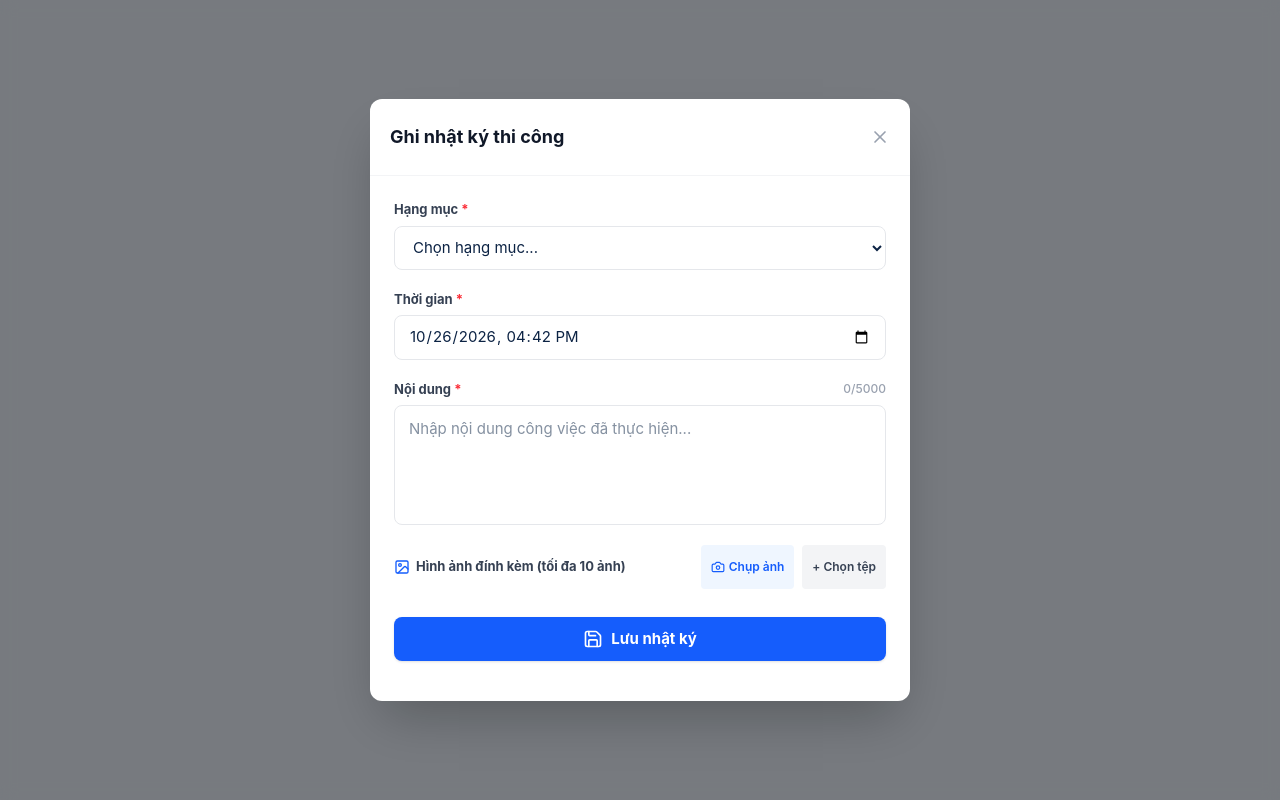
Test: DiaryEntryForm Component - work_item_id contract tests › chặn gửi request khi ID hạng mục không hợp lệ
This screenshot has width=1280, height=800.
Ép giá trị không hợp lệ
Select "invalid-category-xyz" in the dropdown with test id "category-dropdown" at (640, 248), box [394,226,886,270]
Type "Nội dung hợp lệ" into the text box with placeholder "Nhập nội dung công việc đã thực hiện..." at (640, 465), box [394,405,886,525]
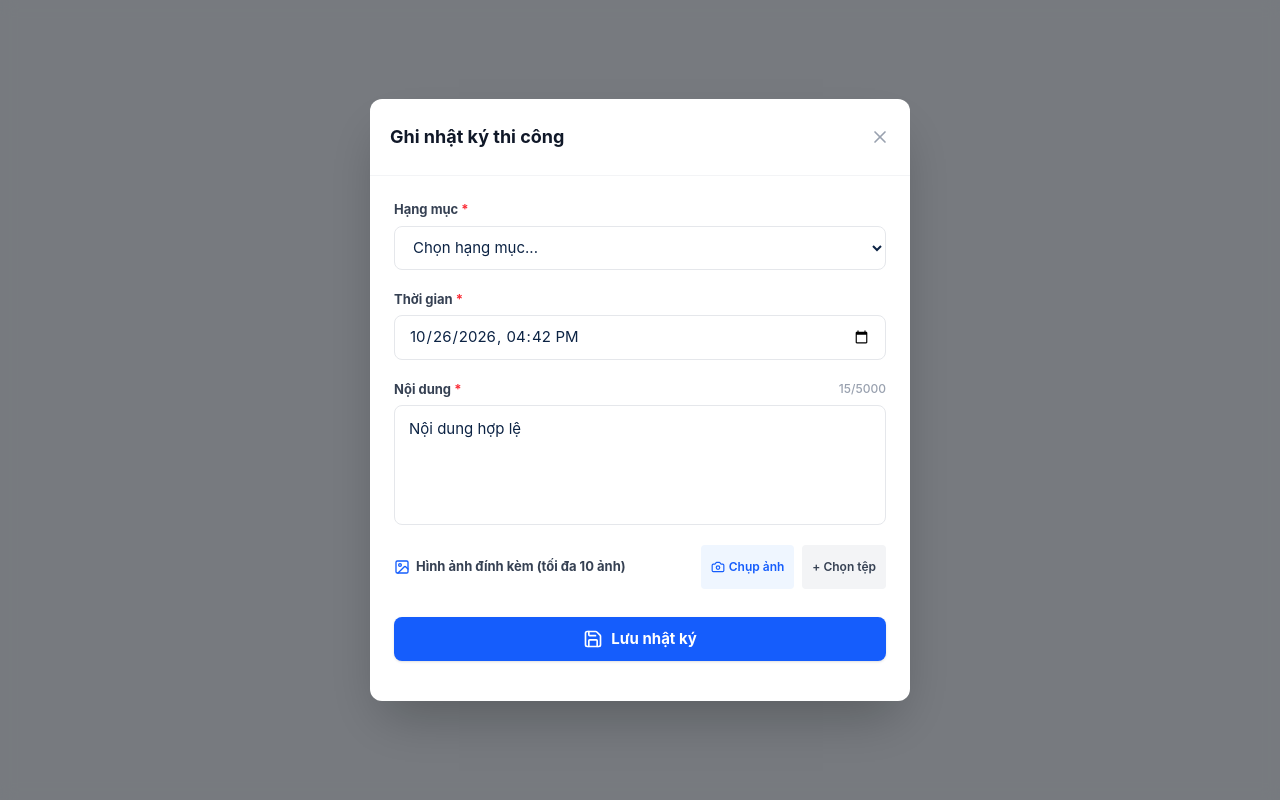
Submit the form with test id "submit-diary-btn", box [370,176,910,685]
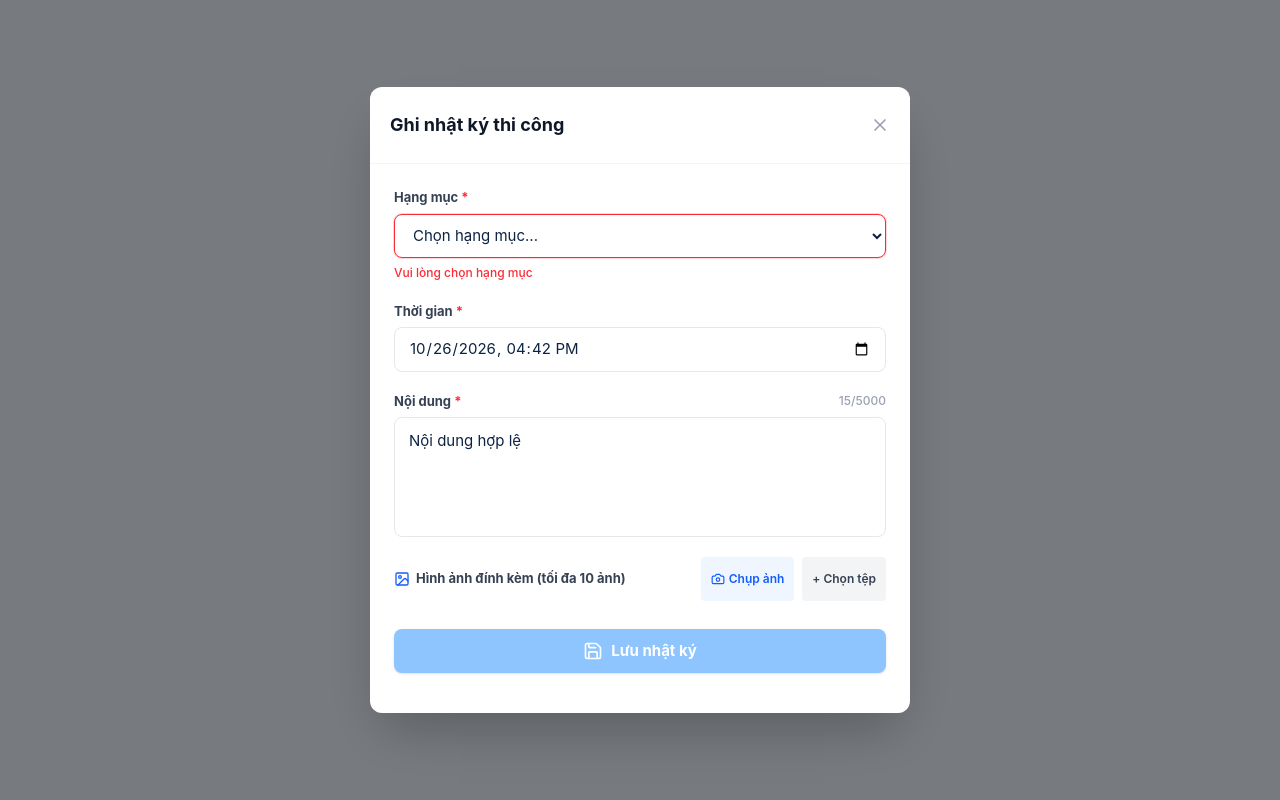
Expected: the text "Vui lòng chọn hạng mục" is shown, [394,264,533,280]
